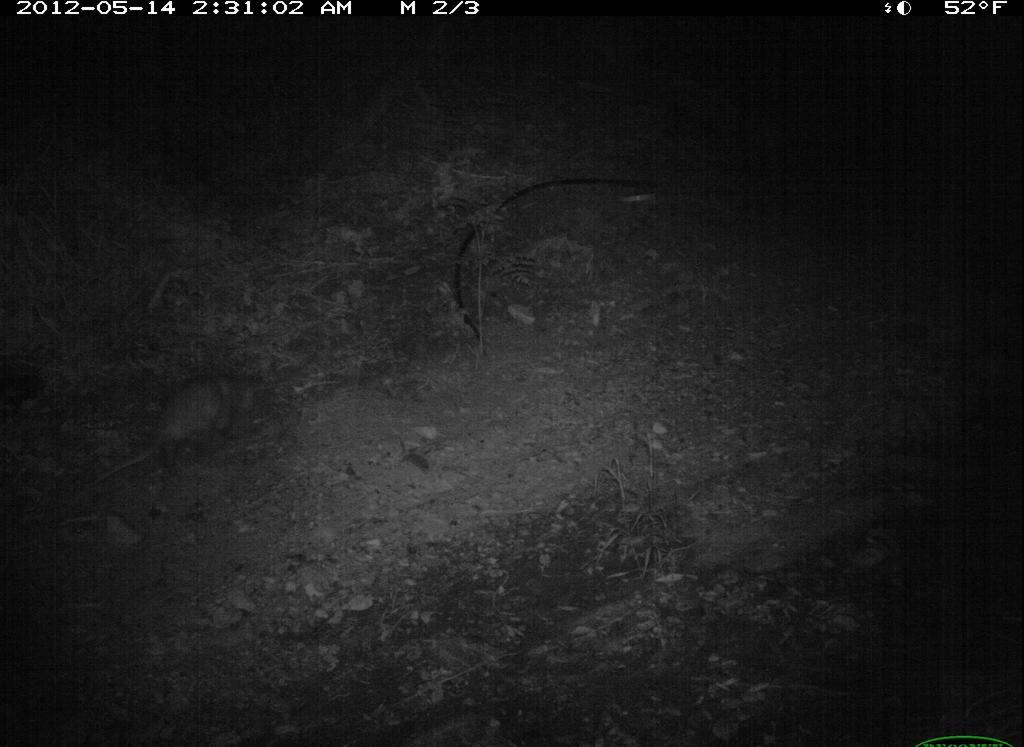opossum: (72, 356, 277, 500)
